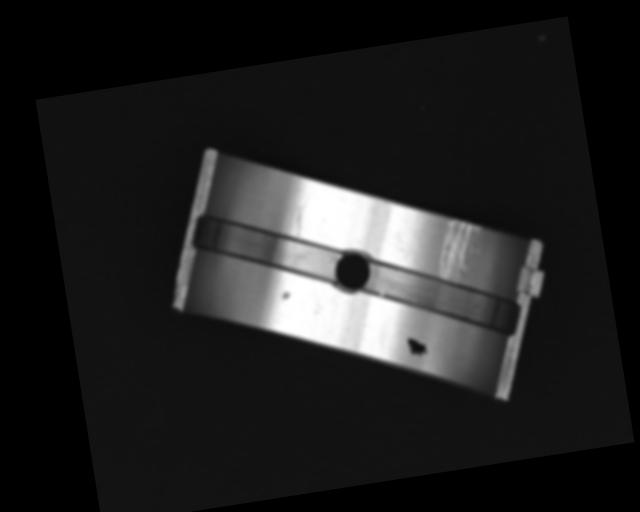blot: (405, 334, 429, 359)
bruise: (280, 291, 290, 300)
gap: (360, 244, 524, 356), (188, 196, 347, 298)
hole: (330, 248, 373, 294)
nick: (289, 196, 314, 239)
scratch: (431, 217, 487, 282)
